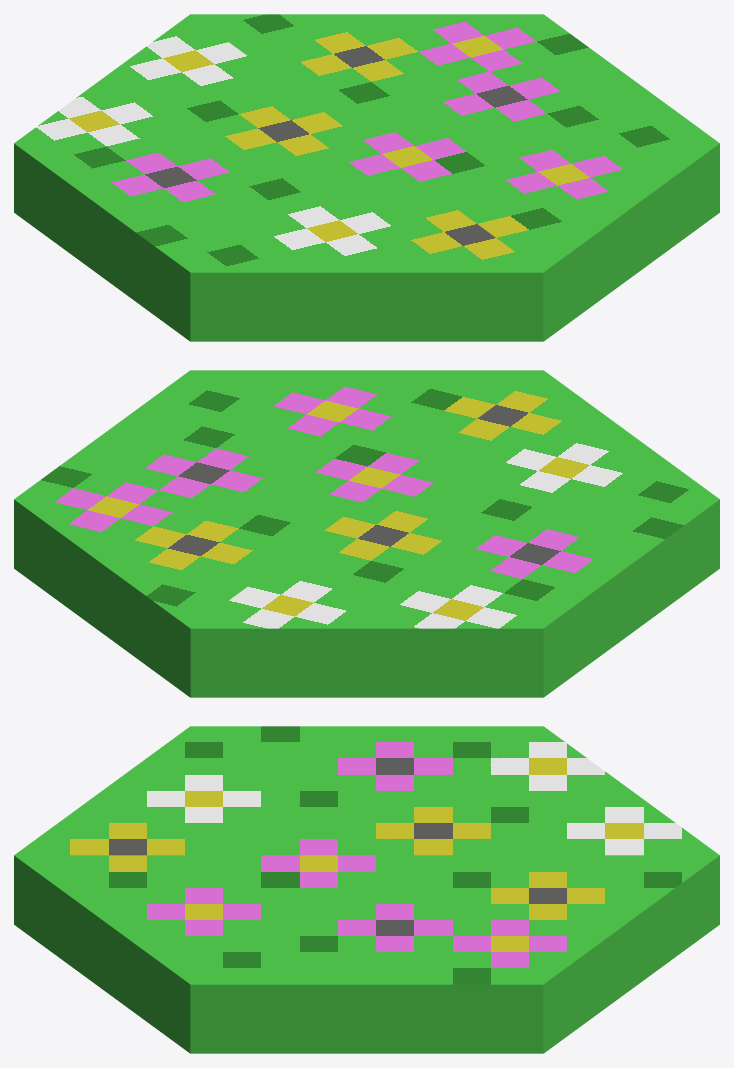
File: meadow.obj
The picture shows the model from 3 angles, top to bottom: view 1: azimuth 30°, elevation 25°; view 2: azimuth 150°, elevation 25°; view 3: azimuth 270°, elevation 25°; orthographic projection.
Visible parts, largest first — view 1: cylinder; view 2: cylinder; view 3: cylinder.
Part boxes in pixels (x1,y1,x2,y2): cylinder: (14, 14, 719, 341); cylinder: (14, 370, 719, 697); cylinder: (14, 726, 719, 1053).
Size of the model in its own units: 1 by 0.125 by 1.15.
1 material, 1 textured.
